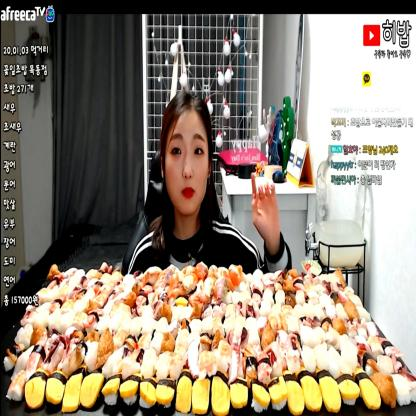streamer: (129, 92, 293, 274)
